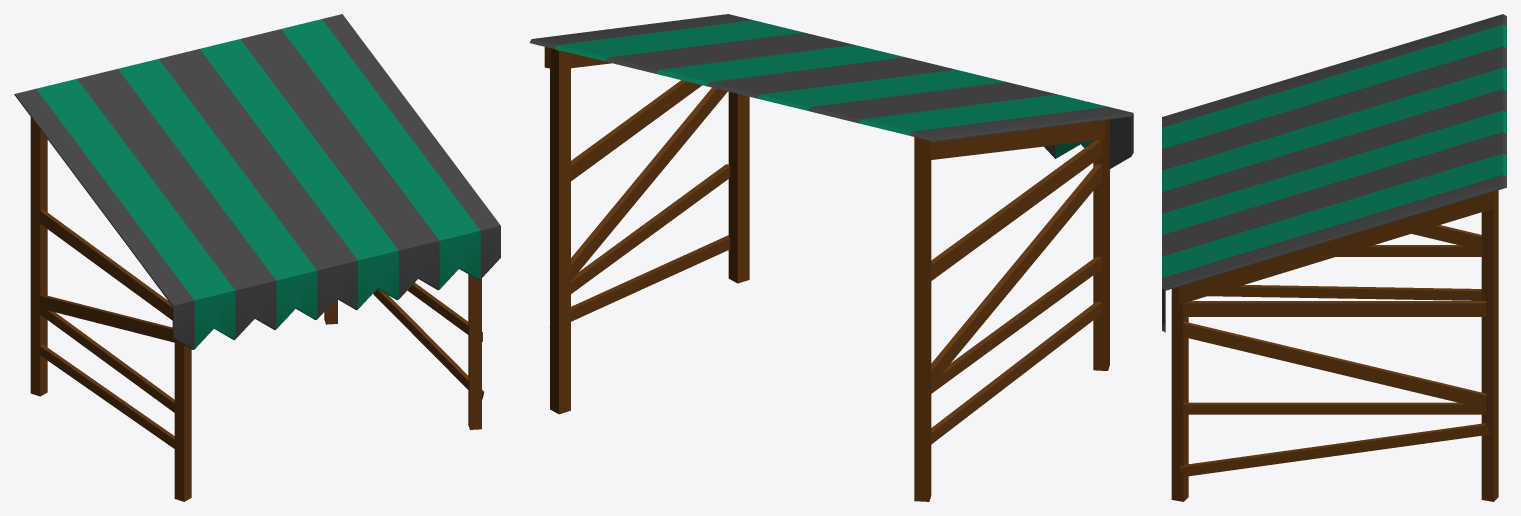
Rendered from Mesh_Big_Stgall.fbx.
3 views of the same model, side by side, from view 1: azimuth 30°, elevation 25°; view 2: azimuth 150°, elevation 25°; view 3: azimuth 270°, elevation 25° (orthographic). The views are drawn at different scales.
Parts seen in each view (by area): view 1: Big_Stgall; view 2: Big_Stgall; view 3: Big_Stgall.
Boxes of the visible parts, x1,y1,x2,y2 form: Big_Stgall: (14, 14, 500, 501); Big_Stgall: (529, 14, 1133, 501); Big_Stgall: (1162, 14, 1506, 501).
Bounding box in the file's own units: 378 × 330 × 321.
Materials: 1 (1 with a texture image).
